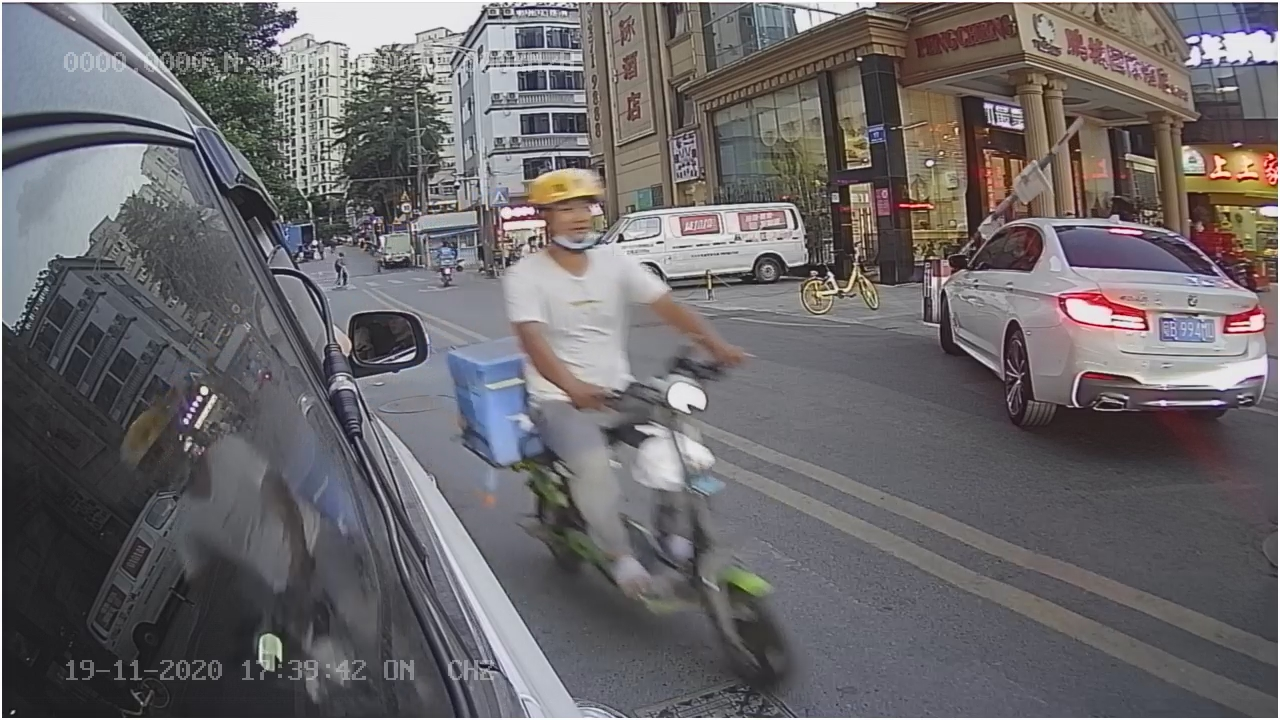person: (504, 179, 640, 389)
